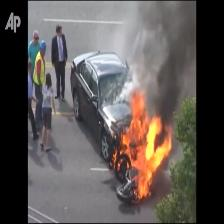fire: (120, 91, 172, 200)
